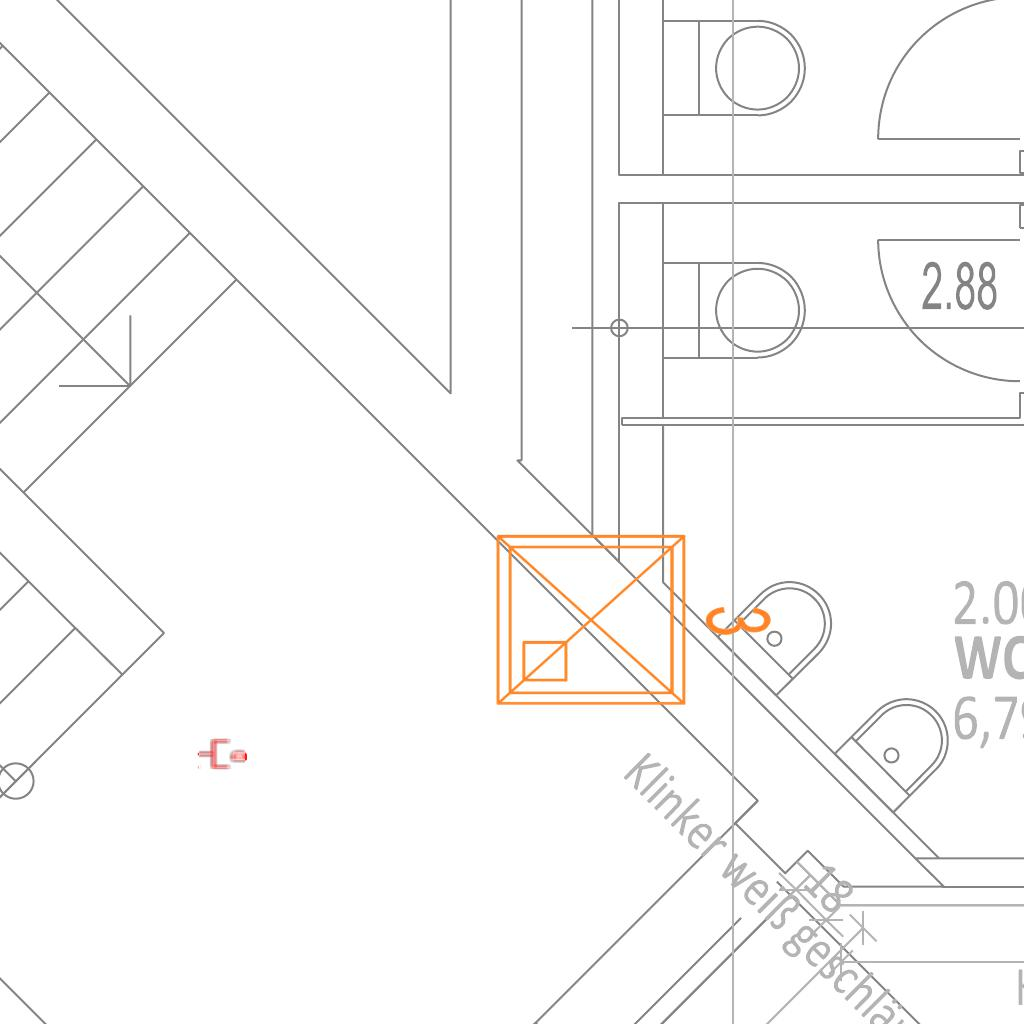Datenanschluss_einfach: (197, 737, 247, 771)
Einbaudownlights_LED_Konferenzraeume: (482, 512, 782, 720)
